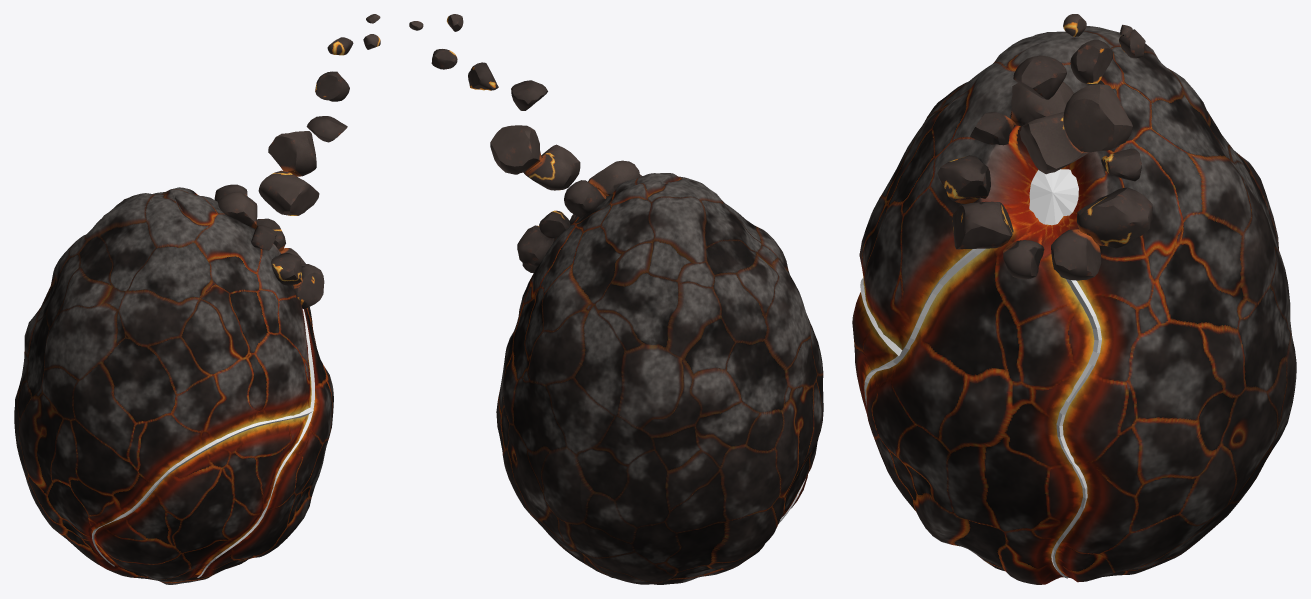
File: InfernoEgg.fbx
3 renders of one model, left to right at view 1: azimuth 30°, elevation 25°; view 2: azimuth 150°, elevation 25°; view 3: azimuth 270°, elevation 25°, orthographic. The views are drawn at different scales.
Parts seen in each view (by area): view 1: InfernoEgg_Body, InfernoEgg_Glow_ff4a12; view 2: InfernoEgg_Body; view 3: InfernoEgg_Body, InfernoEgg_Glow_ff4a12, InfernoEgg_Glow_ffa21e.
Boxes of the visible parts, x1,y1,x2,y2 form: InfernoEgg_Body: [14, 14, 380, 584]; InfernoEgg_Glow_ff4a12: [92, 309, 314, 577]; InfernoEgg_Body: [409, 14, 823, 584]; InfernoEgg_Body: [852, 14, 1296, 584]; InfernoEgg_Glow_ff4a12: [860, 248, 1101, 578]; InfernoEgg_Glow_ffa21e: [1029, 169, 1078, 225].
Size of the model in its own units: 2.76 by 3.6 by 2.09.
3 materials, 1 textured.
